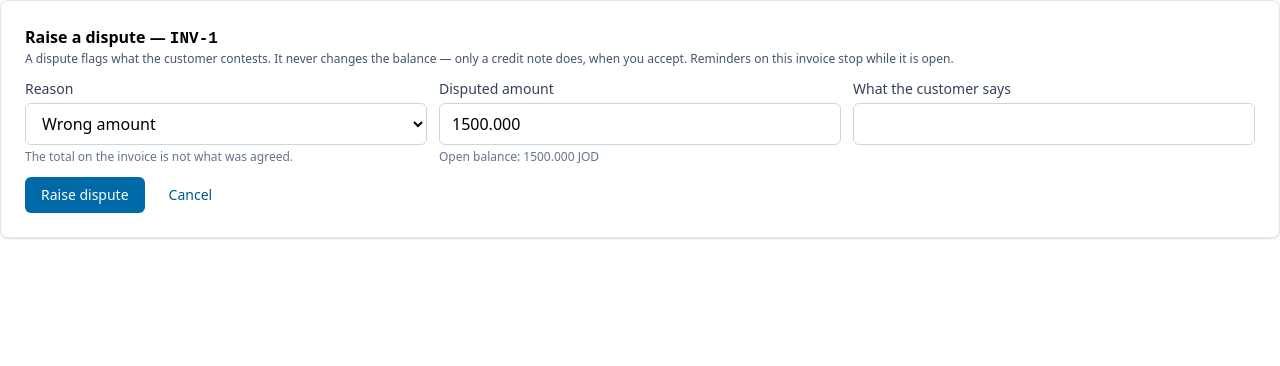
disputes (slice 7 AC-16) › raises with a closed reason set, a plain-language hint, and the already-paid note
Select "Already paid" in the dropdown with test id "dispute-reason" at (226, 124), box x1=25 y1=103 x2=427 y2=145
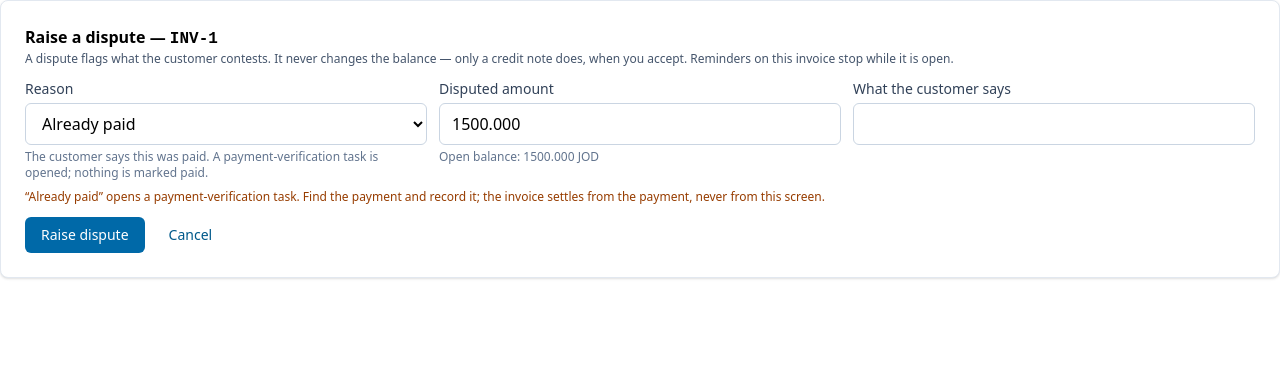
Expected: the text with test id "already-paid-note" shows "never from this screen", x1=25 y1=188 x2=825 y2=205
Replace the text in the field with test id "dispute-amount" with "1500.001" at (640, 124), box x1=439 y1=103 x2=841 y2=145
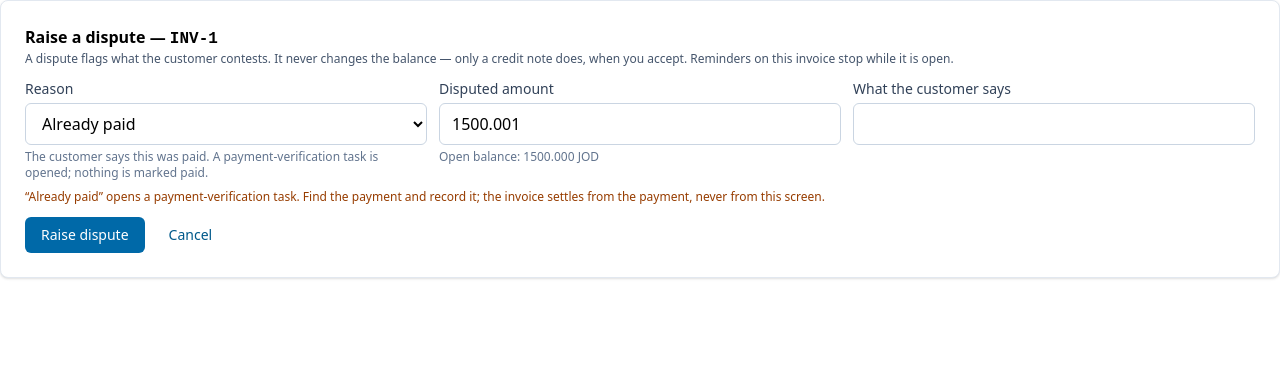
Click the button with test id "dispute-submit" at (85, 235), box x1=25 y1=217 x2=145 y2=253
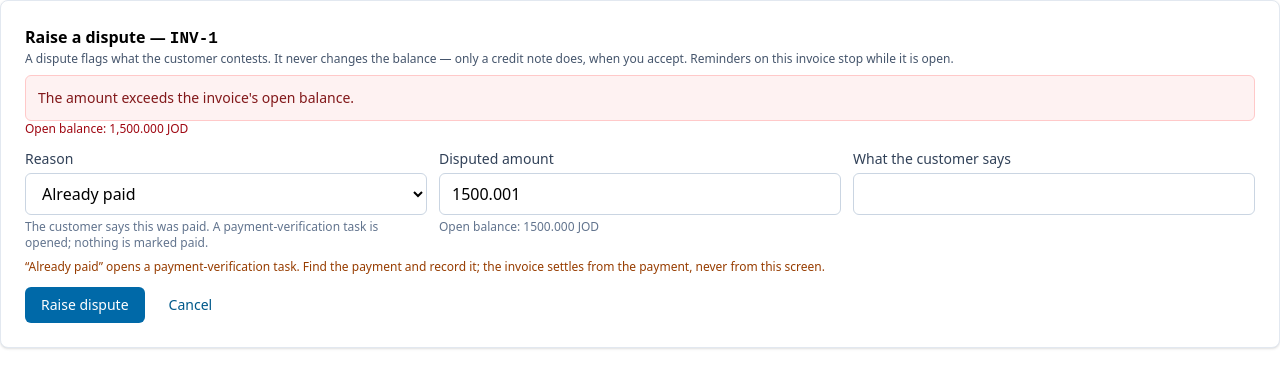
Expected: the element with test id "open-balance-hint" shows "1,500.000 JOD", x1=25 y1=120 x2=188 y2=137
